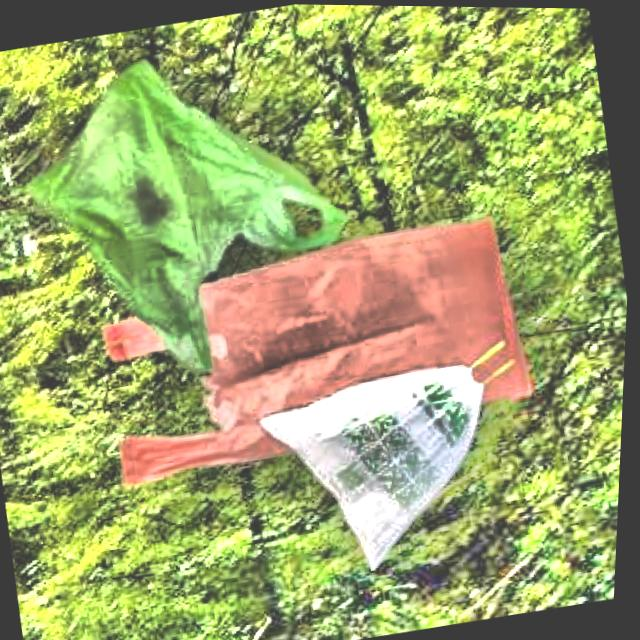Plastic: (56, 196, 558, 526), (0, 27, 363, 413), (231, 327, 551, 588)
